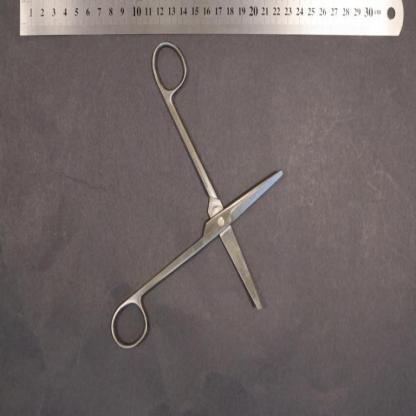Curved Mayo Scissors: (112, 40, 284, 352)
